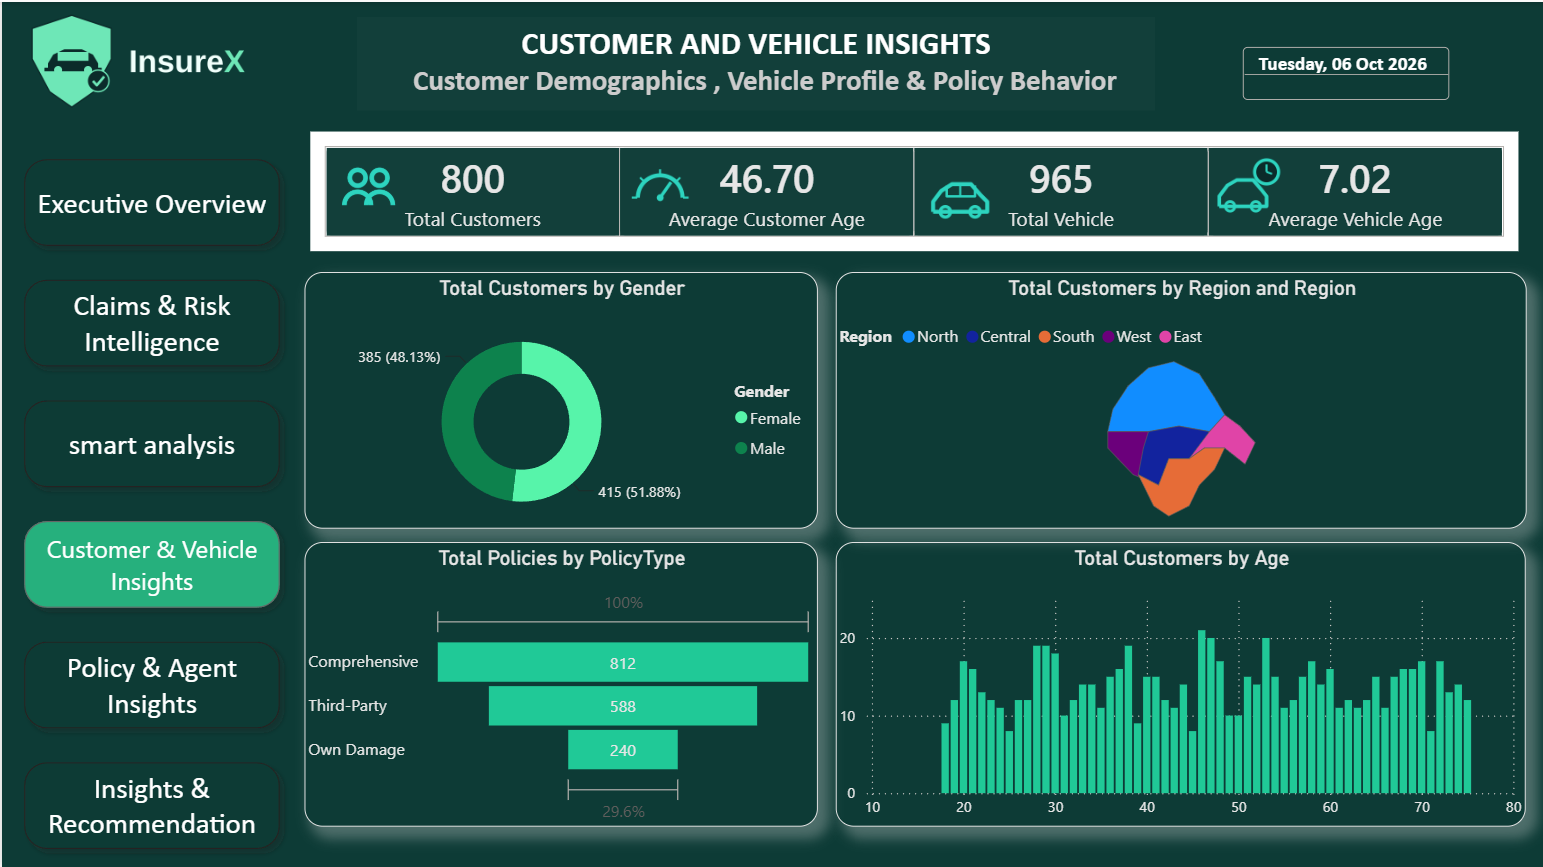

What the dashboard file says about the page in this screenshot:
{"tool":"powerbi","page":{"name":"Customer & Vehicle Insights","canvas":[1280,720],"ordinal":3},"visuals":[{"type":"textbox","box":[294.2,12.8,661.6,77.9],"z":0},{"type":"cardVisual","fields":{"Data":["Customers.Total Customers","Customers.Average Customer Age","Vehicles.Total Vehicle","Vehicles.Average Vehicle Age"]},"box":[251.1,102.9,1012.7,109.8],"z":1000},{"type":"donutChart","fields":{"Category":["Customers.Gender"],"Y":["Customers.Total Customers"]},"box":[251.1,223.7,425.4,212.7],"z":2000},{"type":"clusteredColumnChart","fields":{"Category":["Customers.Age"],"Y":["Customers.Total Customers"]},"box":[691.6,447.3,572.2,236],"z":3000},{"type":"funnel","fields":{"Category":["Policies.PolicyType"],"Y":["Policies.Total Policies"]},"box":[251.1,447.3,425.4,236],"z":4000},{"type":"pageNavigator","box":[9.6,120.8,230.5,590.1],"z":5000},{"type":"image","box":[0,0,348.5,94.7],"z":6000},{"type":"cardVisual","fields":{"Rows":["Agents.Today's Date"]},"box":[1023.7,12.3,181.1,94.7],"z":7000},{"type":"shapeMap","fields":{"Category":["Customers.Region"],"Value":["Customers.Total Customers"],"Series":["Customers.Region"]},"box":[691.4,224.3,572.9,212.9],"z":8000},{"type":"image","box":[271.7,120.8,64.5,70],"z":9000},{"type":"image","box":[509.1,127.6,74.1,56.3],"z":10000},{"type":"image","box":[757.5,134.5,74.1,56.3],"z":11000},{"type":"image","box":[996.2,129,74.1,56.3],"z":12000}]}

Visuals, with their boxes in screenshot pixels (x1, y1, x2, y2), scaled from the page's 1280x720 canvas onto the 1543x867 screenshot:
textbox: [x1=355, y1=15, x2=1152, y2=109]
cardVisual - Customers.Total Customers x Customers.Average Customer Age: [x1=303, y1=124, x2=1523, y2=256]
donutChart - Customers.Gender x Customers.Total Customers: [x1=303, y1=269, x2=815, y2=525]
clusteredColumnChart - Customers.Age x Customers.Total Customers: [x1=834, y1=539, x2=1523, y2=823]
funnel - Policies.PolicyType x Policies.Total Policies: [x1=303, y1=539, x2=815, y2=823]
pageNavigator: [x1=12, y1=145, x2=289, y2=856]
image: [x1=0, y1=0, x2=420, y2=114]
cardVisual - Agents.Today's Date: [x1=1234, y1=15, x2=1452, y2=129]
shapeMap - Customers.Region x Customers.Total Customers: [x1=833, y1=270, x2=1524, y2=526]
image: [x1=328, y1=145, x2=405, y2=230]
image: [x1=614, y1=154, x2=703, y2=221]
image: [x1=913, y1=162, x2=1002, y2=230]
image: [x1=1201, y1=155, x2=1290, y2=223]
